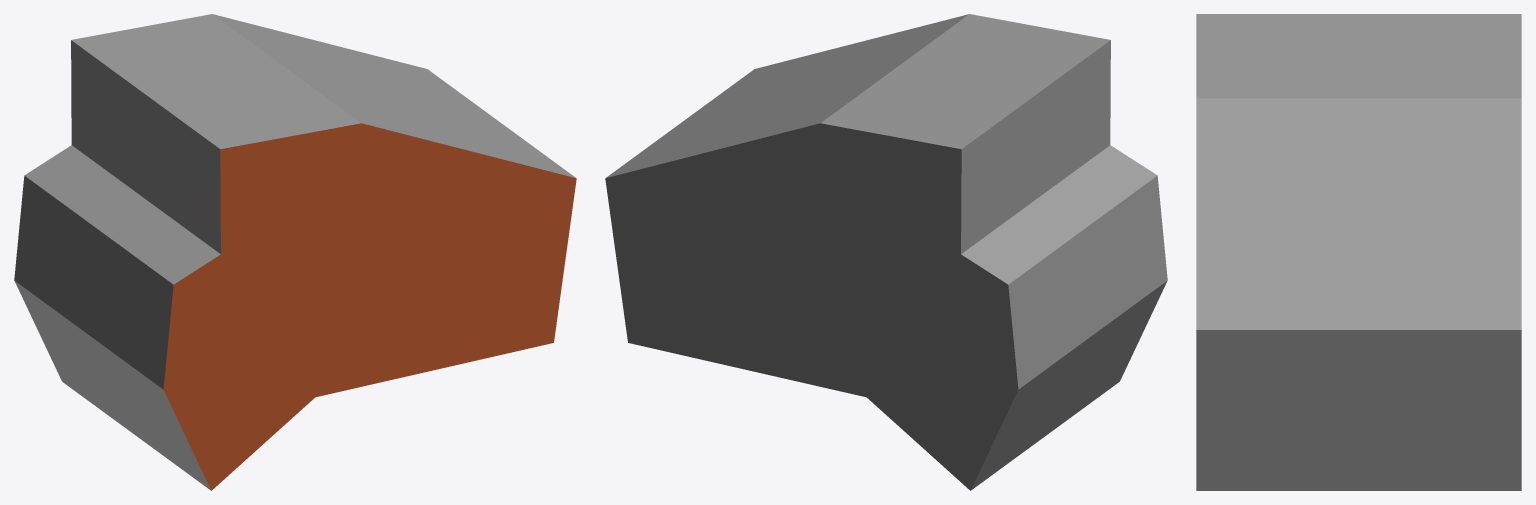
The model's file is construction_4837_assumed_A_Casa_h6m.obj.
3 views of the same model, side by side, from view 1: azimuth 30°, elevation 25°; view 2: azimuth 150°, elevation 25°; view 3: azimuth 270°, elevation 25° (orthographic). The views are drawn at different scales.
Visible parts, largest first — view 1: construction_4837_assumed_A_Casa; view 2: construction_4837_assumed_A_Casa; view 3: construction_4837_assumed_A_Casa.
Boxes of the visible parts, bbox=[...] form: construction_4837_assumed_A_Casa: bbox=[14, 14, 576, 490]; construction_4837_assumed_A_Casa: bbox=[605, 14, 1167, 490]; construction_4837_assumed_A_Casa: bbox=[1196, 14, 1521, 490].
Bounding box in the file's own units: 9.59 × 7.53 × 6.
